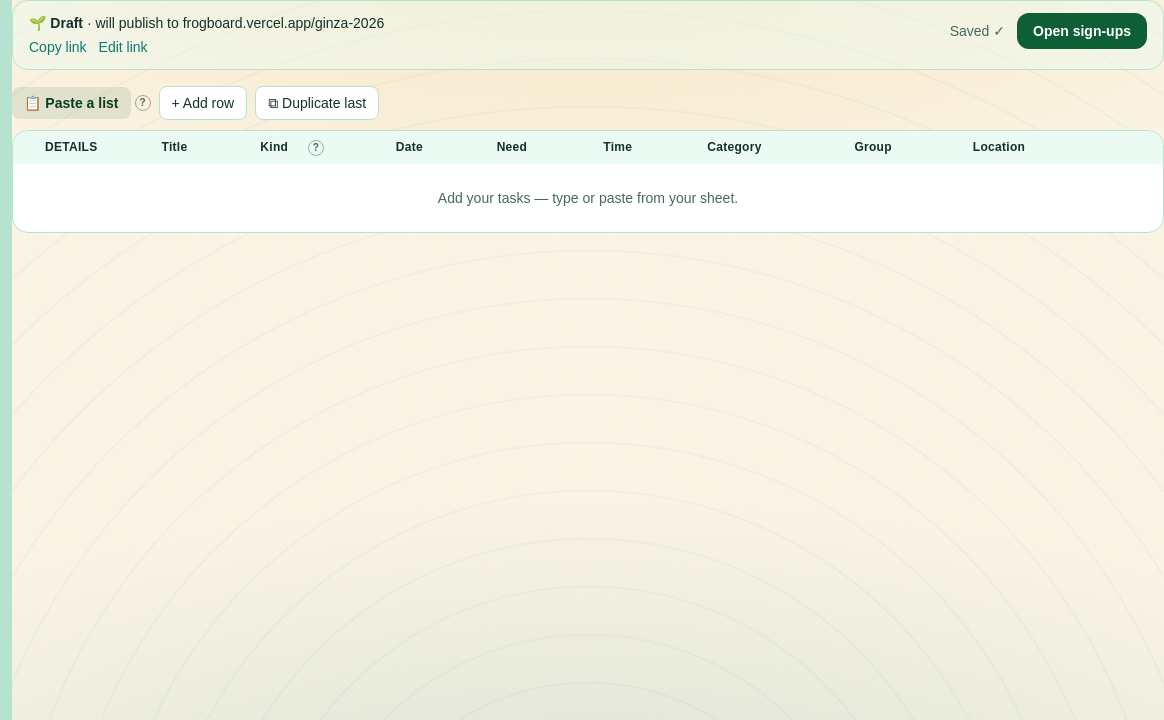
Edit link reveals the inline slug editor
Click the button "Edit link" at (123, 47), box [99,37,148,57]
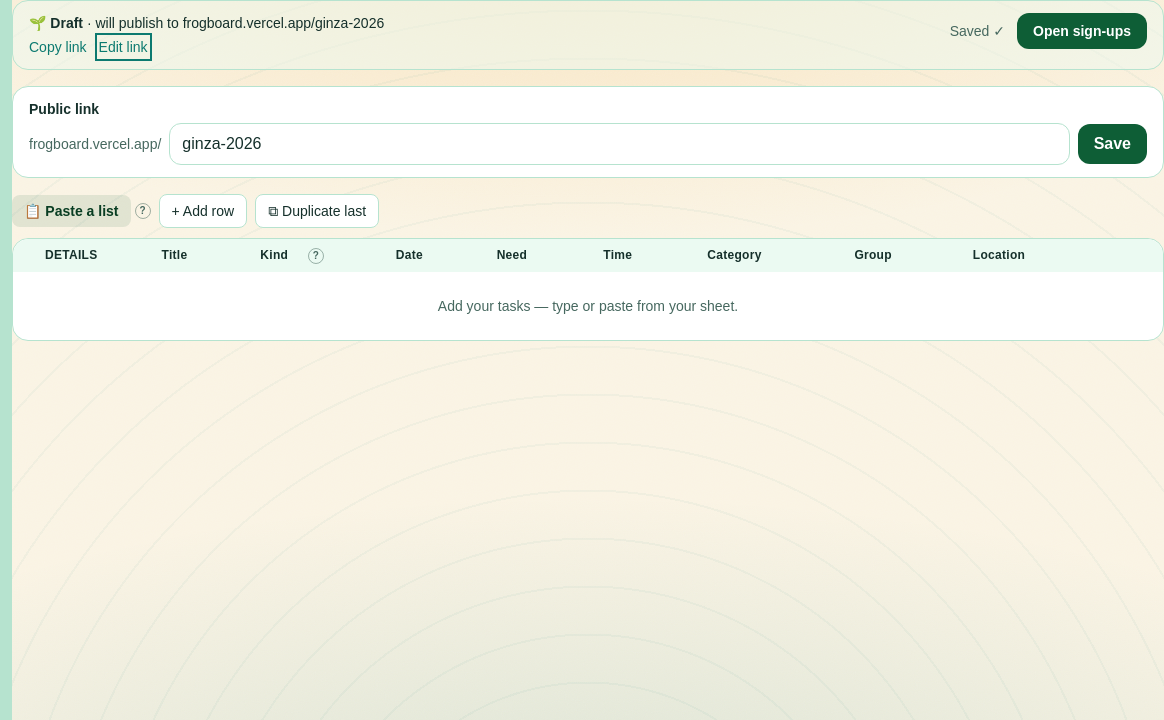
Check: the field named "public link slug" is shown, box [169,123,1070,165]
